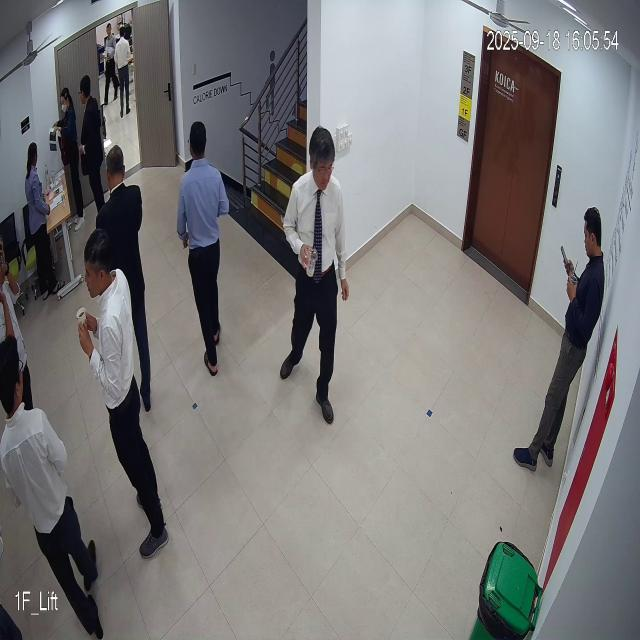face: (302, 128, 339, 193)
